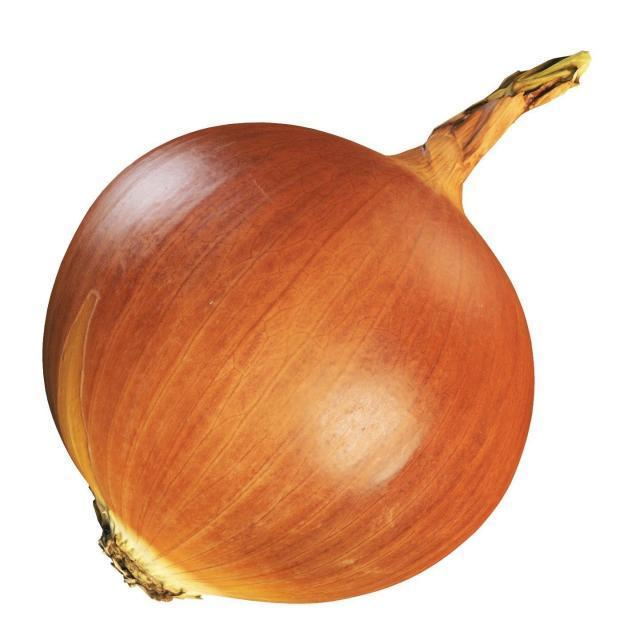onion: (35, 37, 600, 629)
